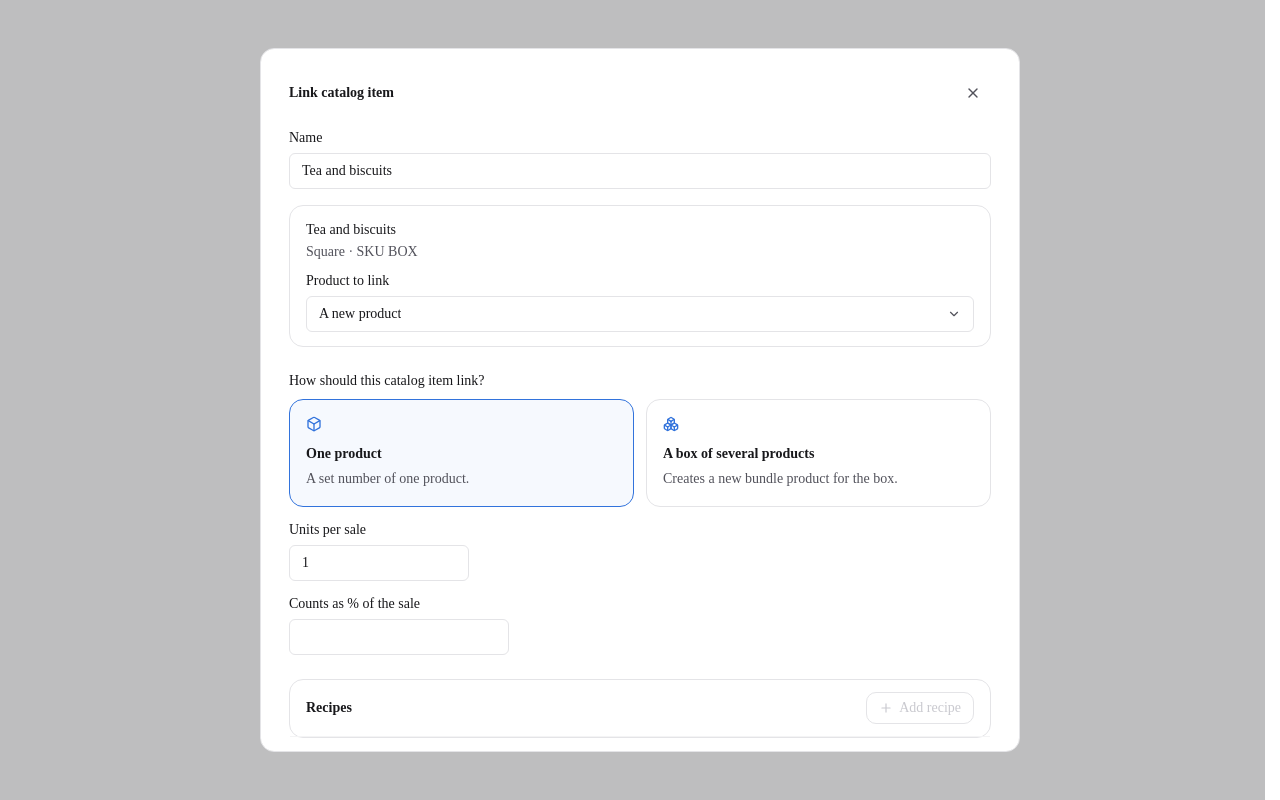
Scenario: track dialog bundle kind › disables the product picker for a box
Expected: the button with aria-label "Product to link" is enabled, [306,296,974,332]
What coordinates should you click on to do the following:
click the radio button labelled "box of several"
I would click on:
 (739, 454)
Its box is [646,399,991,507].
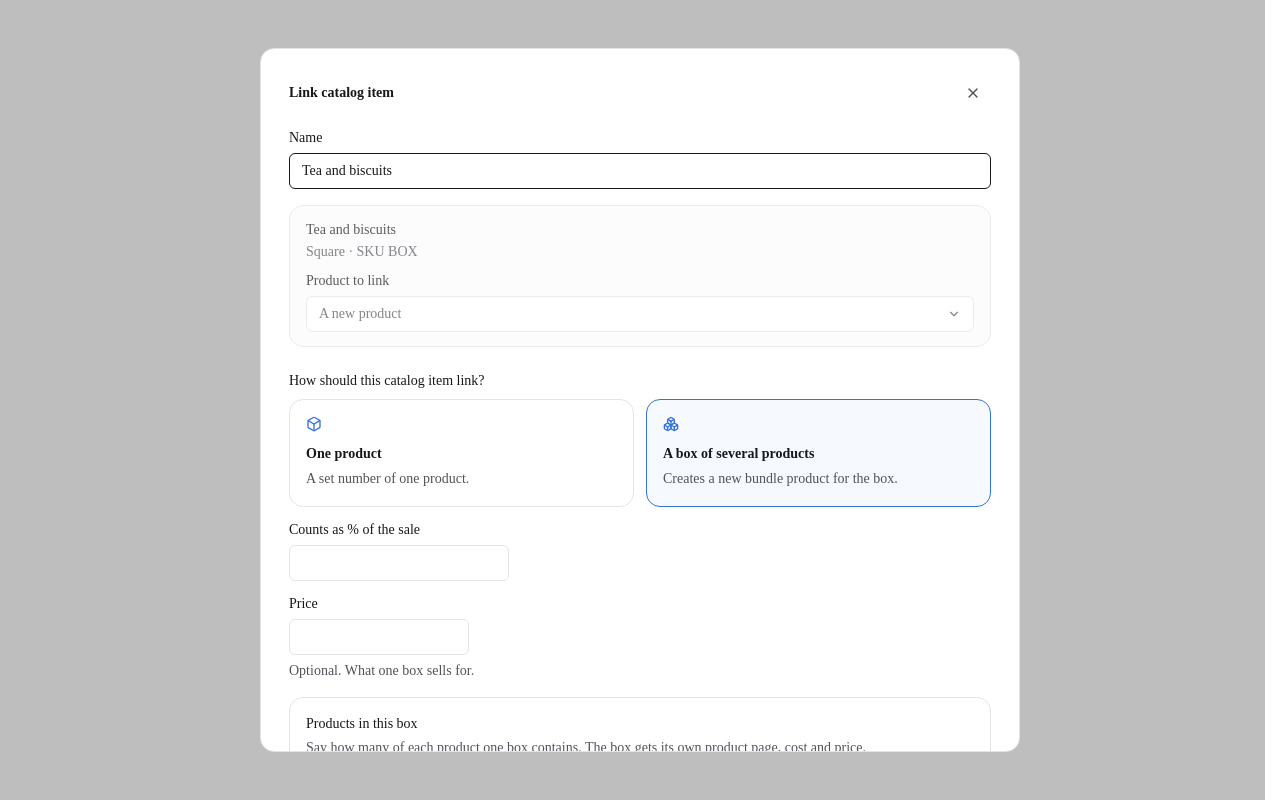
Result: the button with aria-label "Product to link" is disabled at [306,296,974,332]
